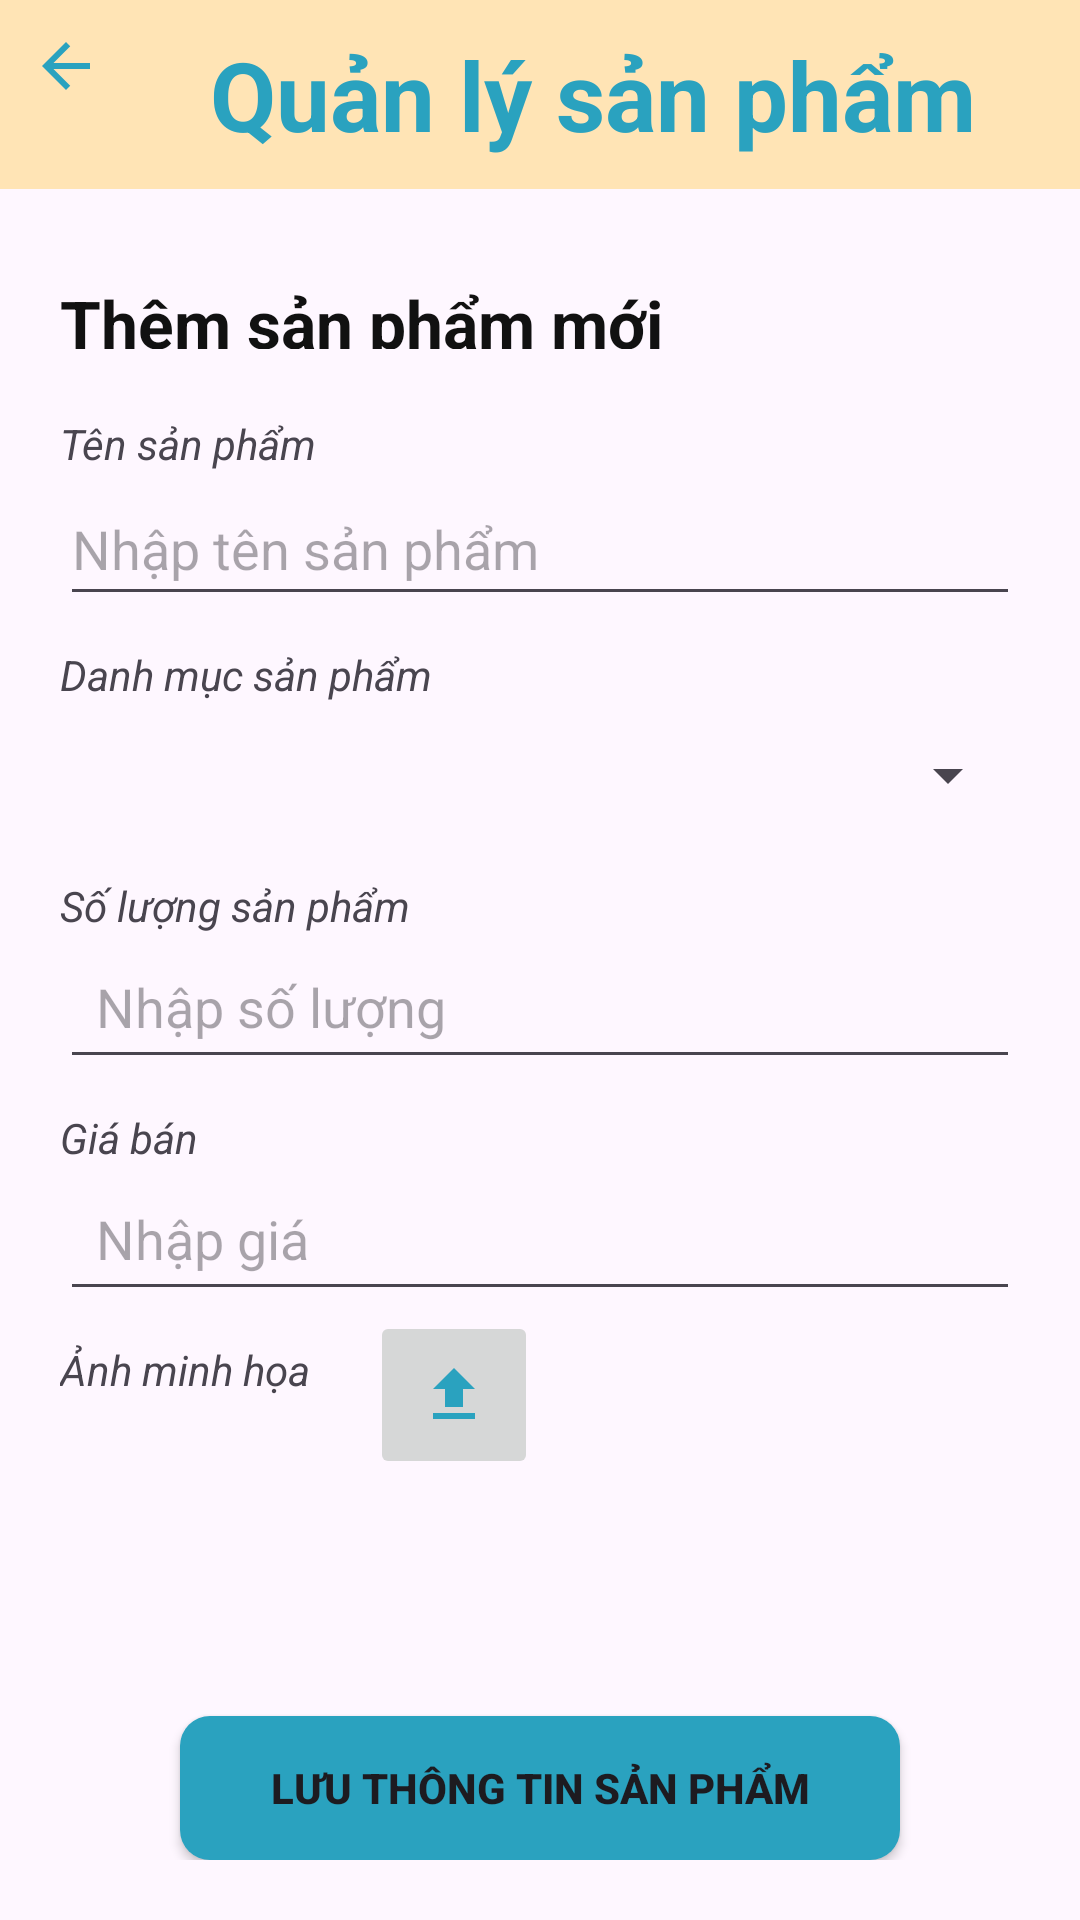

Where to tap for icons on this 1080 x 1920 app screen, as (x=x, y=y):
Go back: (x=66, y=66)
Upload Image: (x=454, y=1395)
